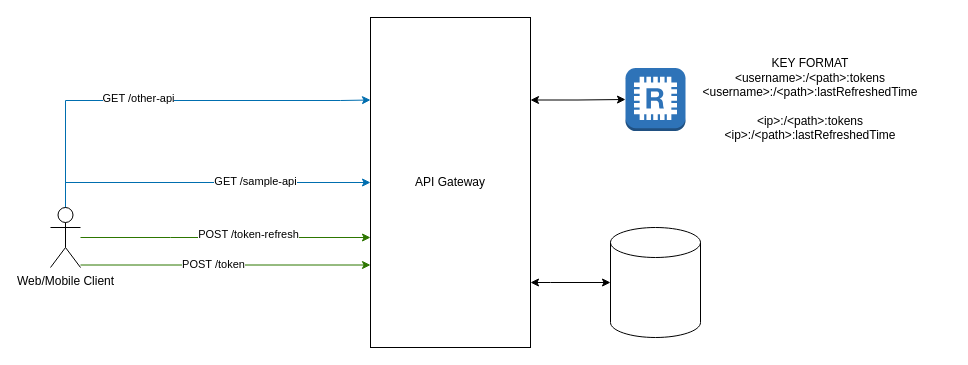
Image size: 968x365. Some labels were removed from this diagram. Each missing label, with the centre of its shape:
In-memory USERS Table: point (655, 282)
Redis Cache: point (655, 99)
